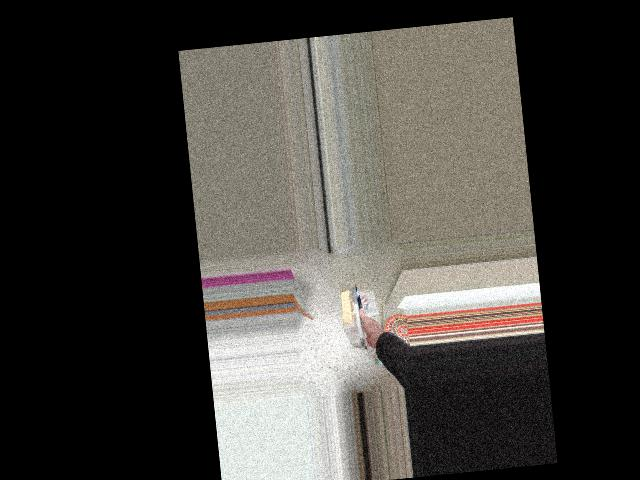cheese: (323, 288, 397, 363)
